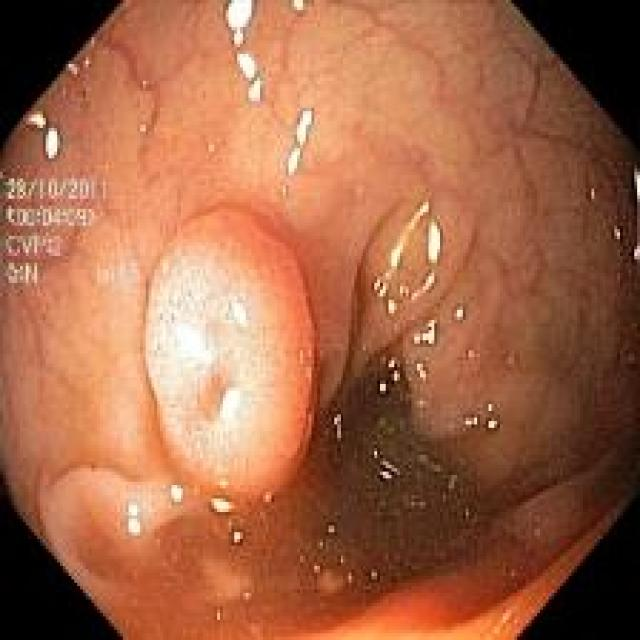Polyps: (144, 209, 316, 503)
